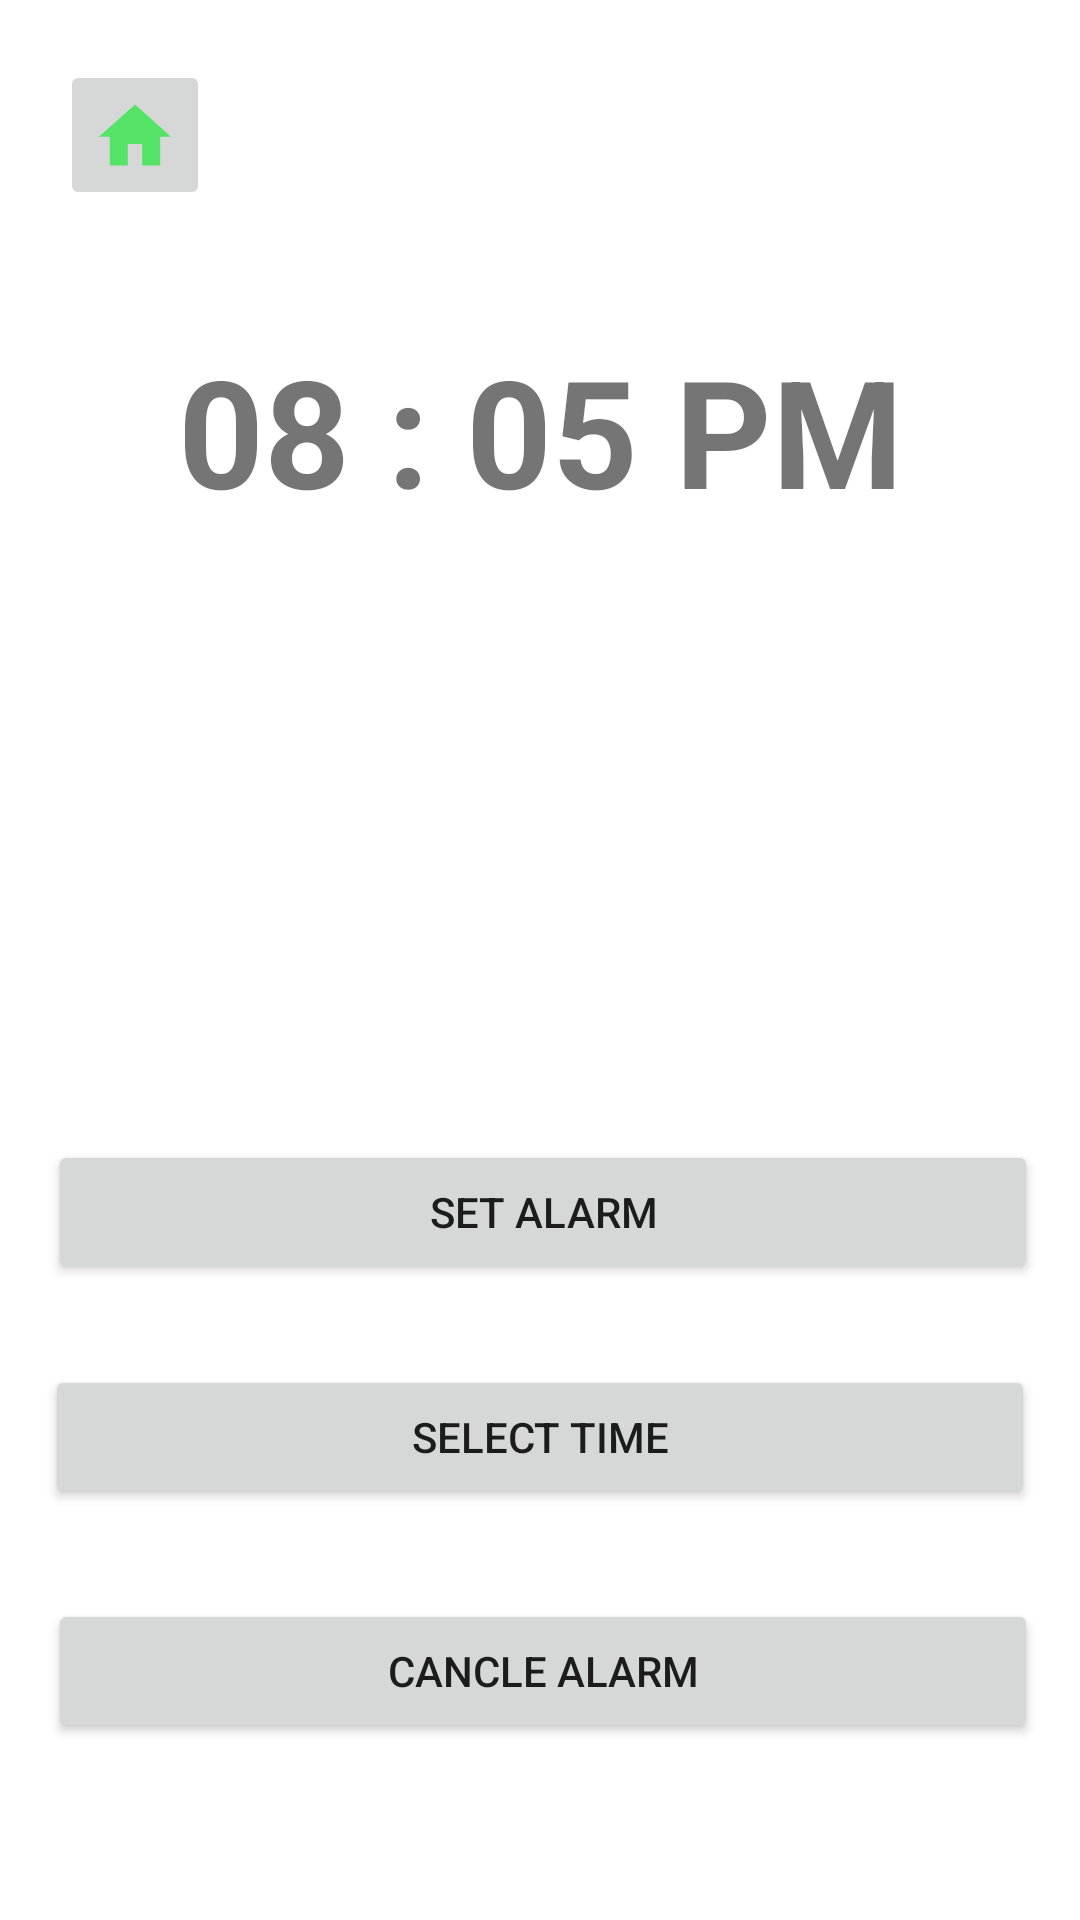

Icon click points for this 1080 × 1920 phone screenshot, format (x,y):
but home: (135,135)
